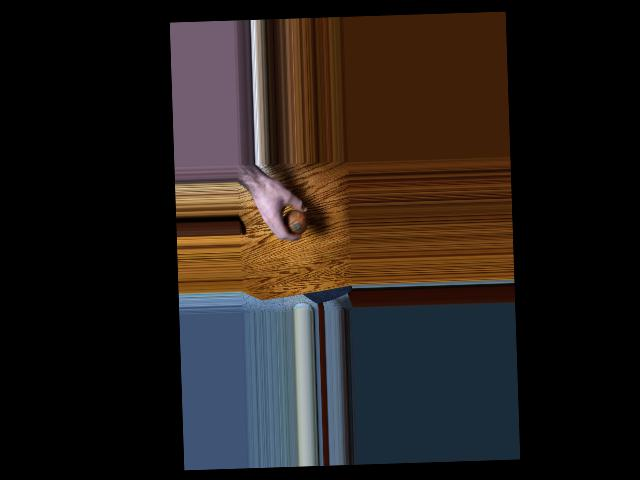onion: (284, 208, 308, 235)
